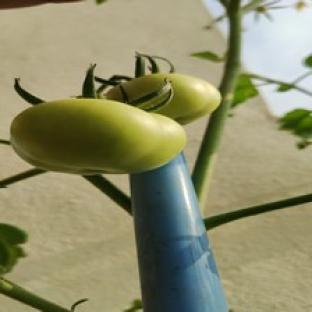Tomato: (12, 99, 186, 175), (106, 73, 221, 123)
